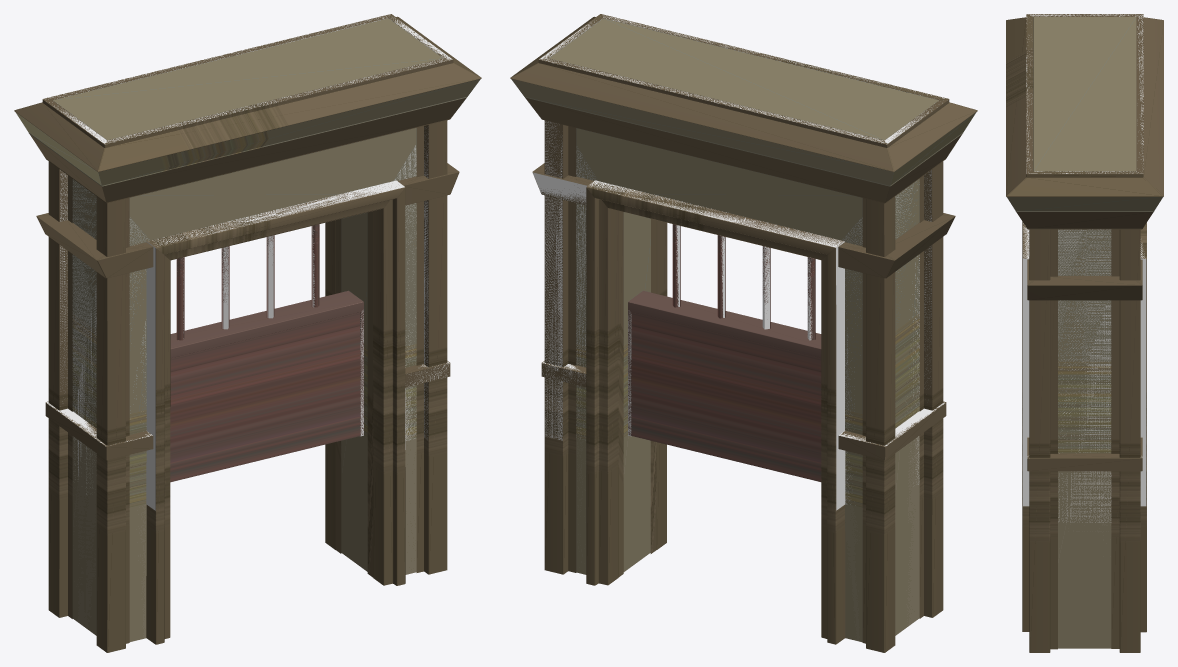
File: objects_un_c01sluice01.gltf
3 views of the same model, side by side, from view 1: azimuth 30°, elevation 25°; view 2: azimuth 150°, elevation 25°; view 3: azimuth 270°, elevation 25° (orthographic). The views are drawn at different scales.
Parts seen in each view (by area): view 1: um_objects_un_c01sluice01_model_lod0Shape:objects_un_c01slui (×5), um_objects_un_c01sluice01_model_lod1Shape:objects_un_c01slui (×4), um_objects_un_c01sluice01_model_lod2Shape:objects_un_c01slui; view 2: um_objects_un_c01sluice01_model_lod0Shape:objects_un_c01slui (×5), um_objects_un_c01sluice01_model_lod1Shape:objects_un_c01slui (×4), um_objects_un_c01sluice01_model_lod2Shape:objects_un_c01slui; view 3: um_objects_un_c01sluice01_model_lod0Shape:objects_un_c01slui (×4), um_objects_un_c01sluice01_model_lod1Shape:objects_un_c01slui (×3), um_objects_un_c01sluice01_model_lod2Shape:objects_un_c01slui.
Part boxes in pixels (x1,y1,x2,y2): um_objects_un_c01sluice01_model_lod0Shape:objects_un_c01slui (×5): [14, 14, 481, 652]; um_objects_un_c01sluice01_model_lod1Shape:objects_un_c01slui (×4): [29, 18, 466, 643]; um_objects_un_c01sluice01_model_lod2Shape:objects_un_c01slui: [15, 79, 480, 638]; um_objects_un_c01sluice01_model_lod0Shape:objects_un_c01slui (×5): [510, 14, 977, 652]; um_objects_un_c01sluice01_model_lod1Shape:objects_un_c01slui (×4): [525, 18, 962, 643]; um_objects_un_c01sluice01_model_lod2Shape:objects_un_c01slui: [511, 79, 976, 623]; um_objects_un_c01sluice01_model_lod0Shape:objects_un_c01slui (×4): [1006, 14, 1163, 652]; um_objects_un_c01sluice01_model_lod1Shape:objects_un_c01slui (×3): [1016, 17, 1153, 649]; um_objects_un_c01sluice01_model_lod2Shape:objects_un_c01slui: [1007, 197, 1162, 531].
Size of the model in its own units: 60.12 by 76.37 by 22.75.
Materials: 5 (4 with a texture image).
